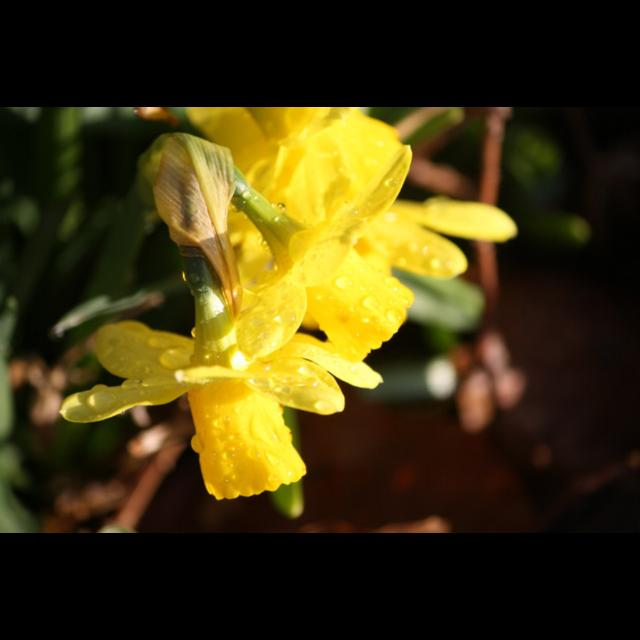Flower: (168, 108, 520, 372), (214, 147, 410, 360)
